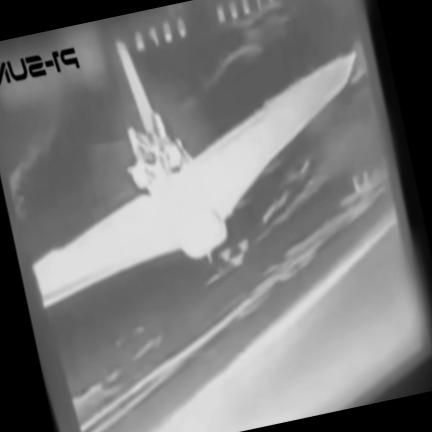Shahed: (32, 41, 358, 307)
